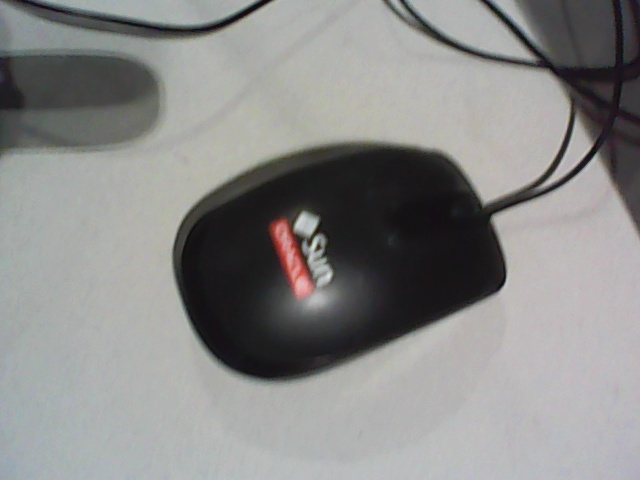mouse: (180, 150, 507, 380)
